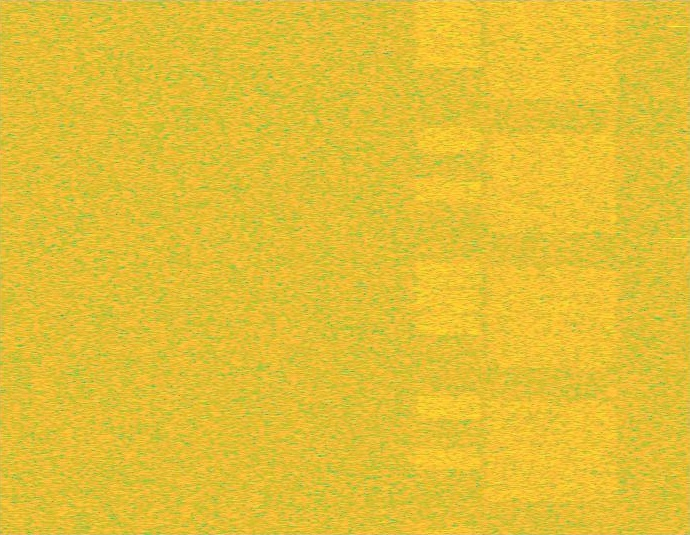5G: (483, 0, 621, 534)
LTE: (414, 0, 483, 534)
Radar: (671, 0, 685, 534)
